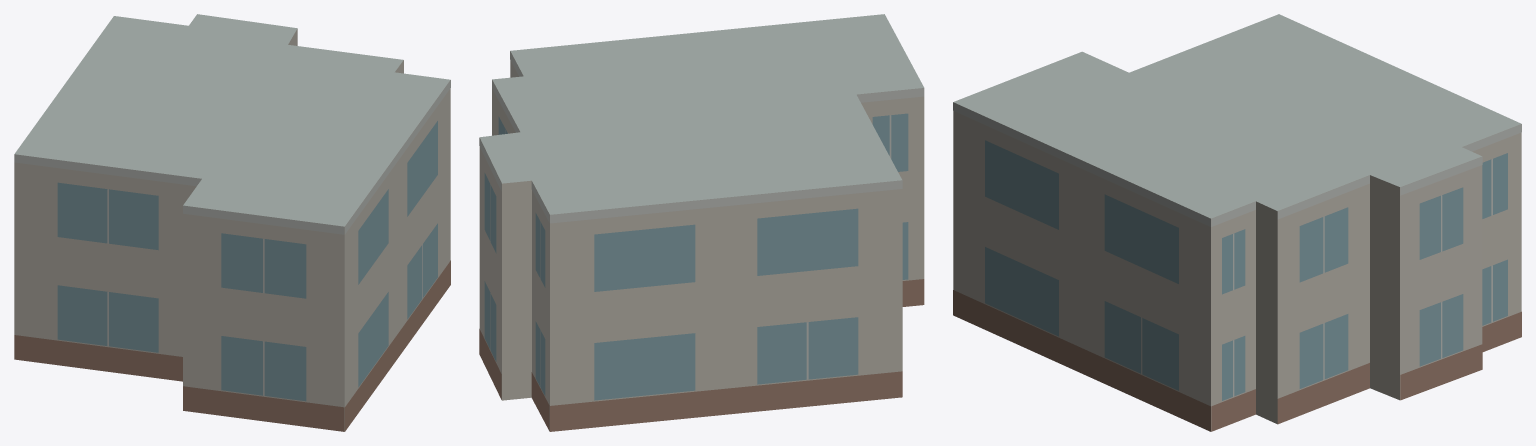
Rendered from survey-upis-32660302.glb.
3 renders of one model, left to right at view 1: azimuth 30°, elevation 25°; view 2: azimuth 150°, elevation 25°; view 3: azimuth 270°, elevation 25°, orthographic. The views are drawn at different scales.
Parts seen in each view (by area): view 1: survey-upis-32660302.tmp; view 2: survey-upis-32660302.tmp; view 3: survey-upis-32660302.tmp.
Part boxes in pixels (x1,y1,x2,y2): survey-upis-32660302.tmp: (14, 14, 450, 431); survey-upis-32660302.tmp: (479, 14, 924, 431); survey-upis-32660302.tmp: (953, 14, 1521, 431).
Bounding box in the file's own units: 12.56 × 6.1 × 14.75.
